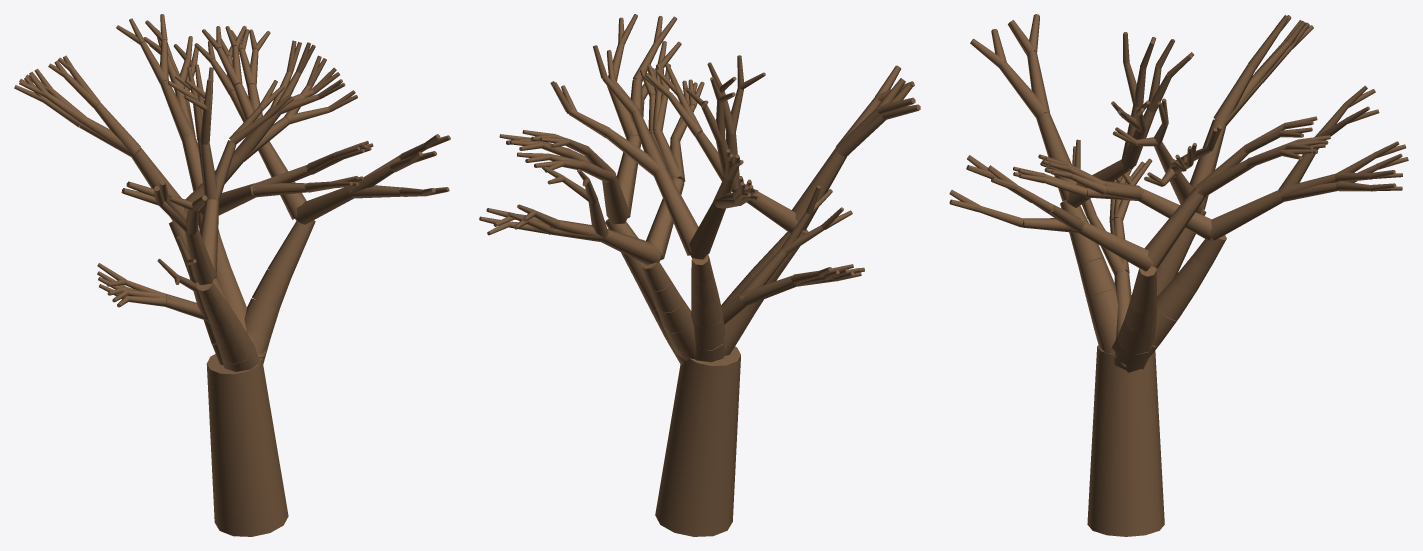
Rendered from birsalma-tel.glb.
3 renders of one model, left to right at view 1: azimuth 30°, elevation 25°; view 2: azimuth 150°, elevation 25°; view 3: azimuth 270°, elevation 25°, orthographic. The views are drawn at different scales.
Parts seen in each view (by area): view 1: torzs, gally-8-2 (×2), gally-1-1, gally-3-1, ag-2-2, gally-8-1, gally-6-1, ag-2-3, gally-5-1, ag-2-4, gally-7-2, ag-1-2 (+10 smaller); view 2: torzs, gally-0-1, gally-0-2 (×2), gally-4-2 (×2), gally-3-1, gally-7-1, gally-5-1, gally-2-1, gally-8-1, gally-6-1, gally-1-1, ag-4-2 (+9 smaller); view 3: torzs, gally-6-1, gally-3-2 (×2), gally-7-1, gally-1-1, gally-2-1, gally-3-1, ag-1-3, ag-1-2, gally-5-1, ag-3-3, gally-5-2 (+12 smaller).
Boxes of the visible parts, left/top/right/bottom form: torzs: left=206, top=354, right=288, bottom=536; gally-8-2 (×2): left=200, top=140, right=236, bottom=201; gally-1-1: left=295, top=187, right=353, bottom=224; gally-3-1: left=185, top=229, right=216, bottom=284; ag-2-2: left=244, top=298, right=279, bottom=338; gally-8-1: left=200, top=199, right=219, bottom=278; gally-6-1: left=258, top=141, right=306, bottom=219; ag-2-3: left=252, top=269, right=290, bottom=309; gally-5-1: left=131, top=148, right=183, bottom=221; ag-2-4: left=267, top=241, right=302, bottom=279; gally-7-2: left=160, top=80, right=194, bottom=140; ag-1-2: left=216, top=323, right=252, bottom=364; torzs: left=655, top=346, right=740, bottom=536; gally-0-1: left=654, top=168, right=698, bottom=255; gally-0-2 (×2): left=606, top=110, right=666, bottom=175; gally-4-2 (×2): left=739, top=248, right=794, bottom=304; gally-3-1: left=792, top=148, right=847, bottom=230; gally-7-1: left=601, top=229, right=661, bottom=264; gally-5-1: left=689, top=201, right=725, bottom=259; gally-2-1: left=646, top=177, right=684, bottom=260; gally-8-1: left=731, top=184, right=797, bottom=233; gally-6-1: left=602, top=174, right=630, bottom=224; gally-1-1: left=616, top=135, right=641, bottom=217; ag-4-2: left=692, top=312, right=725, bottom=350; torzs: left=1087, top=345, right=1164, bottom=536; gally-6-1: left=1144, top=187, right=1205, bottom=268; gally-3-2 (×2): left=999, top=51, right=1049, bottom=117; gally-7-1: left=1210, top=189, right=1284, bottom=240; gally-1-1: left=1078, top=221, right=1153, bottom=271; gally-2-1: left=1137, top=188, right=1211, bottom=240; gally-3-1: left=1036, top=112, right=1077, bottom=201; ag-1-3: left=1078, top=258, right=1115, bottom=298; ag-1-2: left=1086, top=289, right=1117, bottom=330; gally-5-1: left=1189, top=119, right=1226, bottom=209; ag-3-3: left=1157, top=278, right=1195, bottom=320; gally-5-2: left=1213, top=64, right=1255, bottom=124.
Size of the model in its own units: 2.68 by 3.78 by 3.32.
